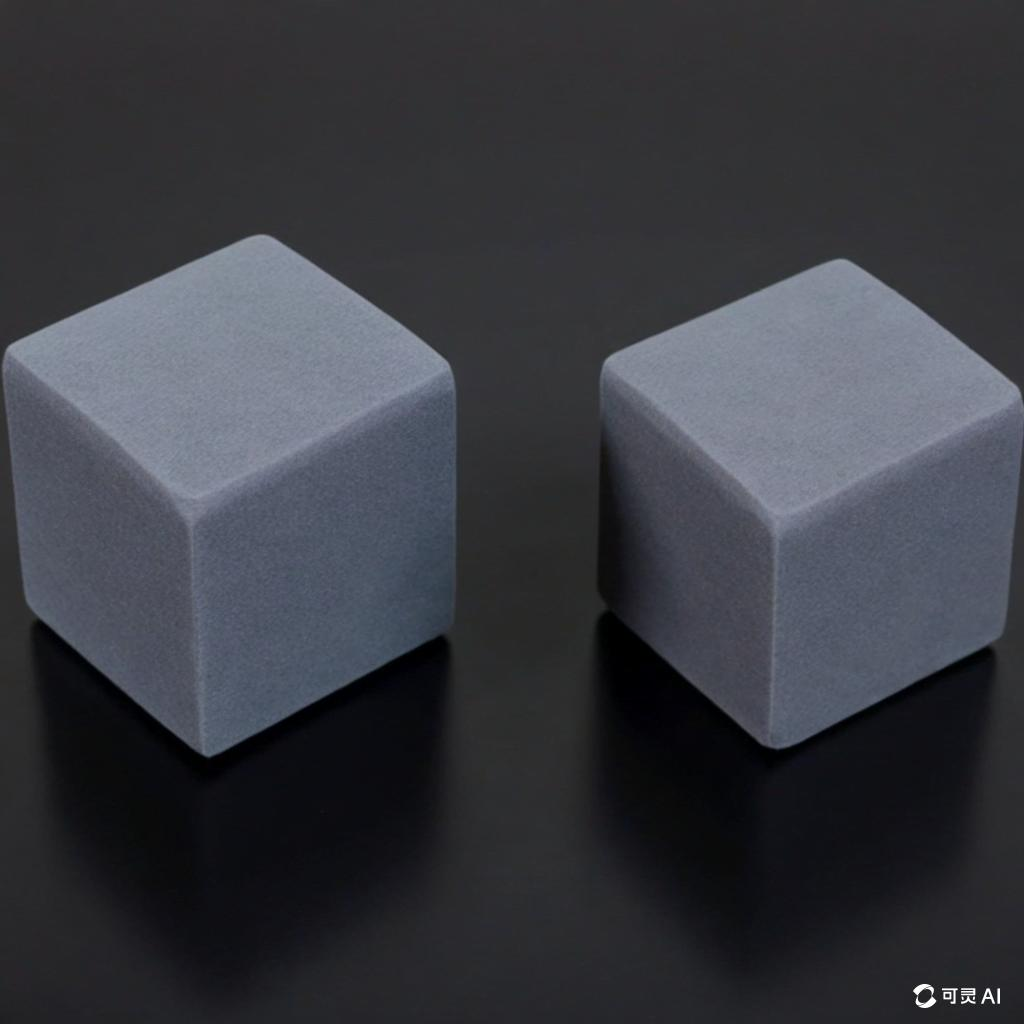cube: (1, 231, 458, 758), (596, 255, 1022, 751)
